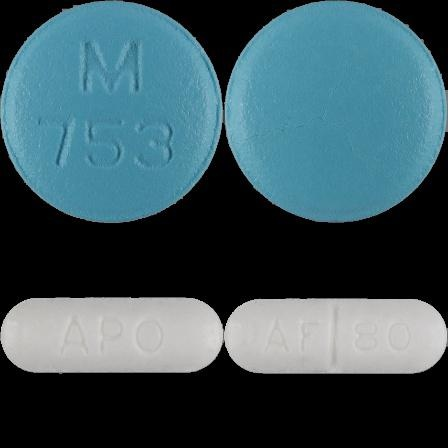60429-388: (0, 0, 224, 224)
